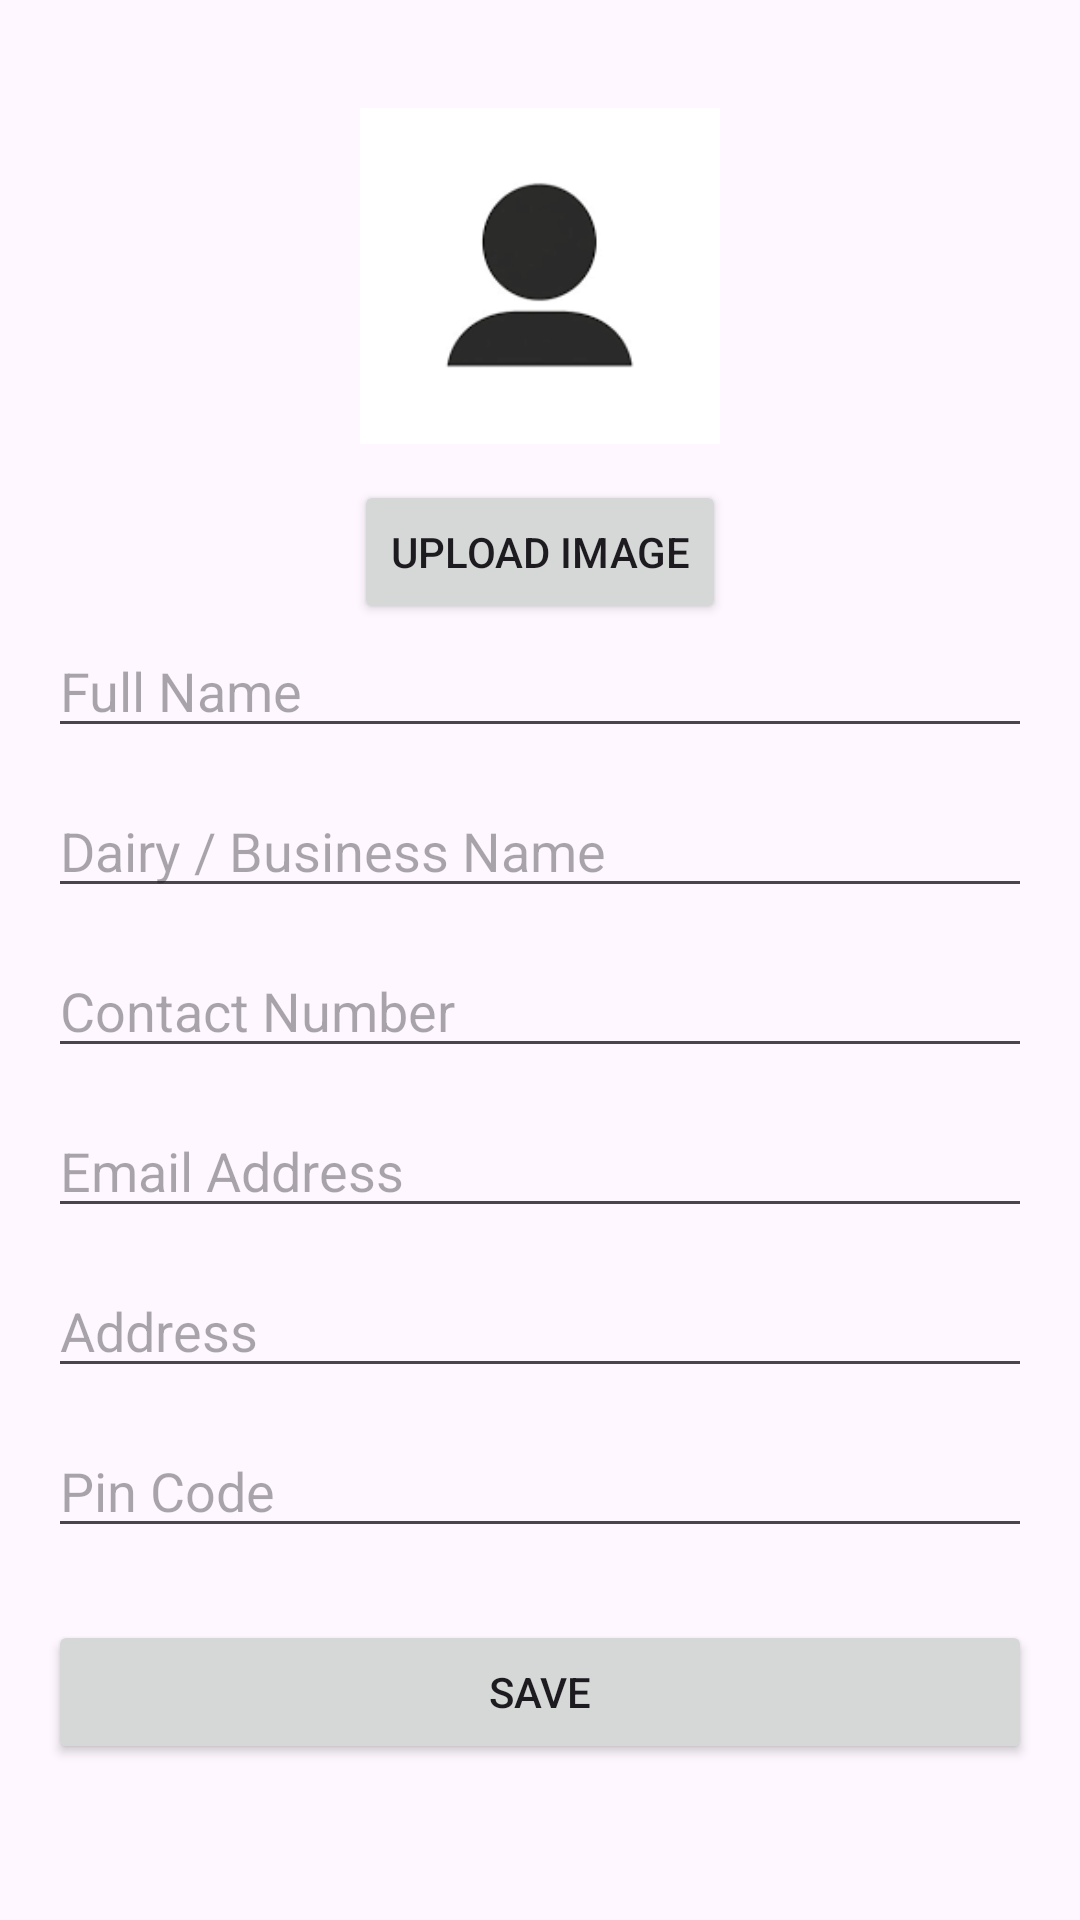

Named icons in this screenshot (1080px×1920px) and their centers, point (x, y):
person: point (540, 275)
